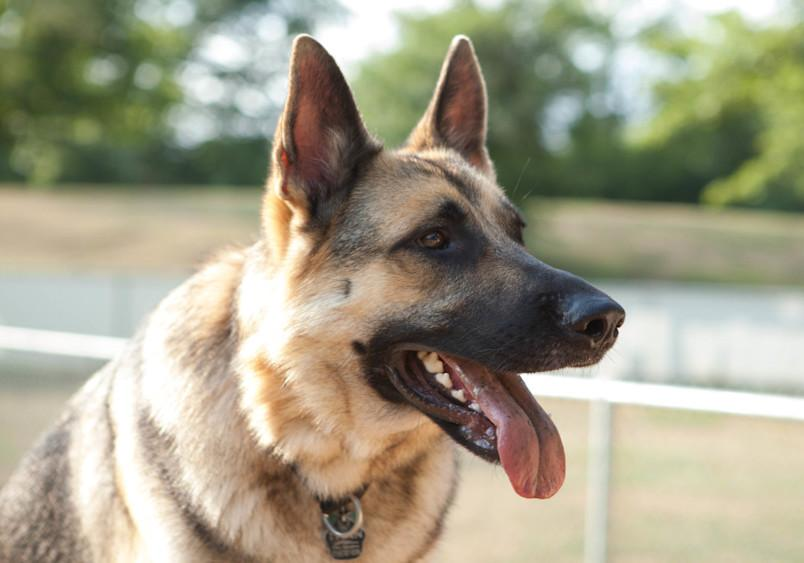german_shepherd: (285, 33, 651, 498)
